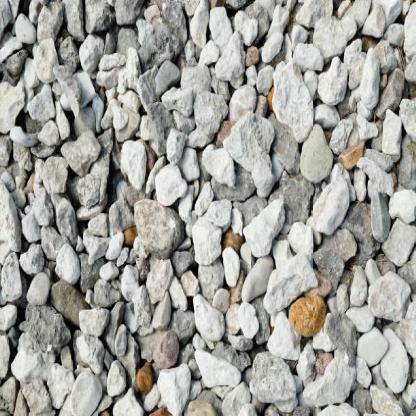Sedimentary_Limestone: (278, 293, 332, 346), (220, 221, 248, 254), (134, 363, 161, 393), (121, 223, 138, 247)
